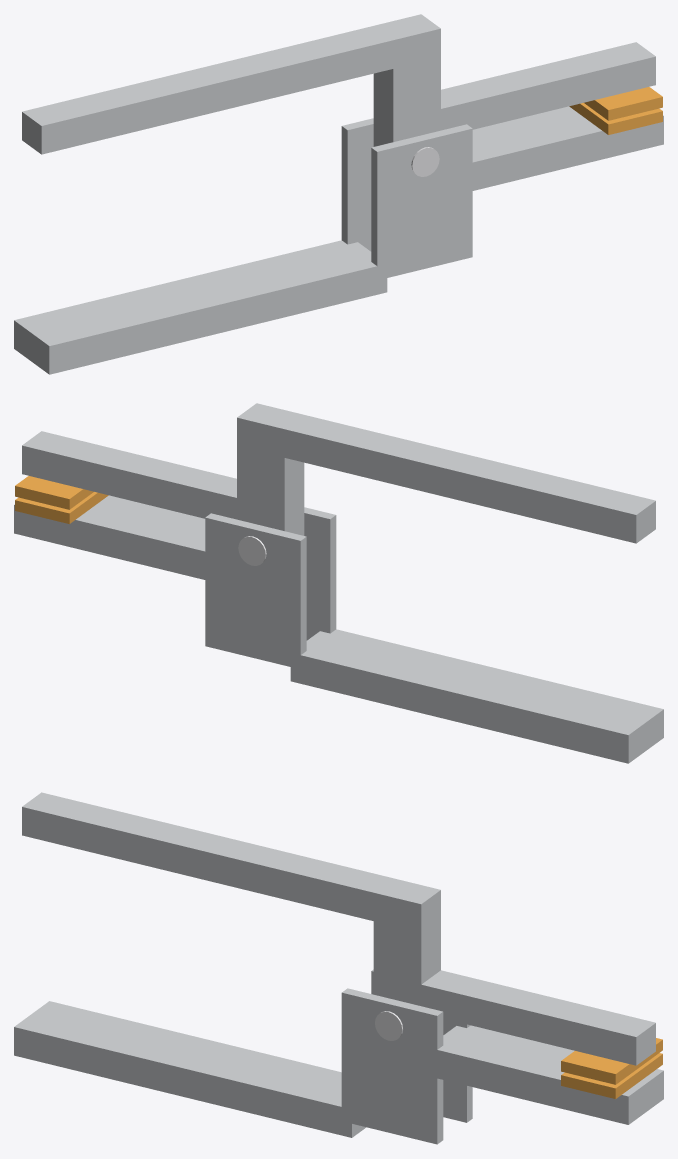
File: clamp-spring-25.glb
The picture shows the model from 3 angles, top to bottom: view 1: azimuth 30°, elevation 25°; view 2: azimuth 150°, elevation 25°; view 3: azimuth 330°, elevation 25°; orthographic projection.
Visible parts, largest first — view 1: body, jaw; view 2: body, jaw; view 3: body, jaw.
Part boxes in pixels (left/top/right/bottom): body: left=14, top=103, right=663, bottom=374; jaw: left=22, top=14, right=662, bottom=154; body: left=14, top=492, right=663, bottom=763; jaw: left=15, top=403, right=655, bottom=543; body: left=14, top=969, right=663, bottom=1144; jaw: left=22, top=792, right=662, bottom=1084.
Size of what is drawn, in the model's own units: 0.18 by 0.068 by 0.024.
